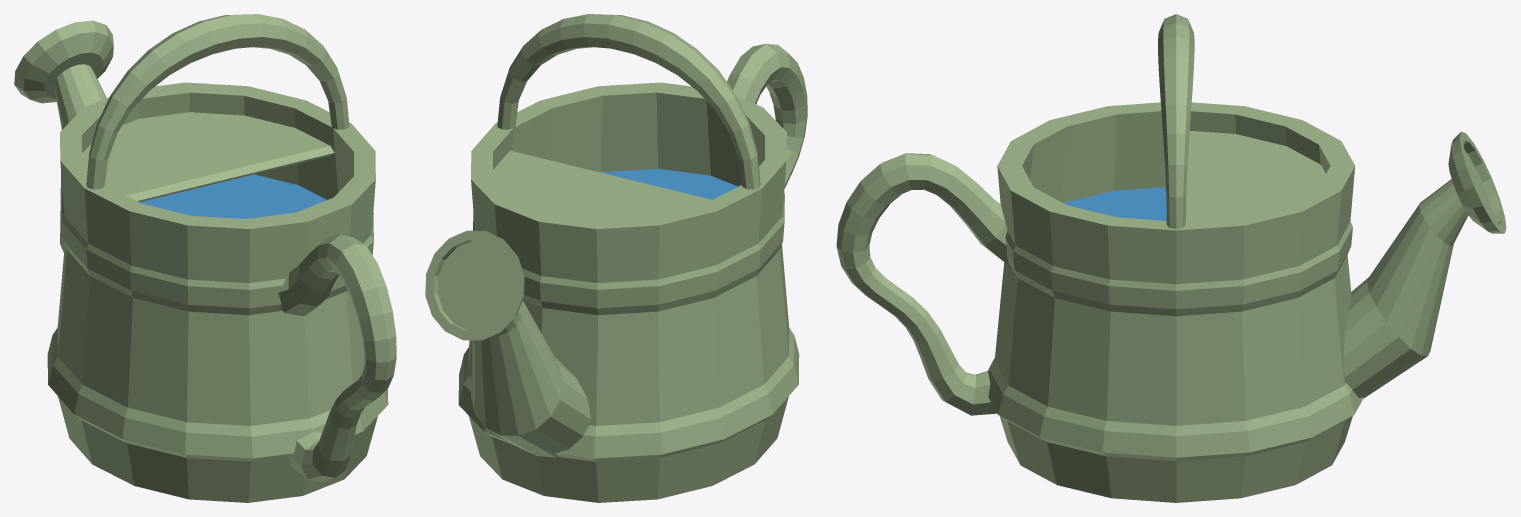
File: wateringCanblend.fbx
The picture shows the model from 3 angles, left to right: view 1: azimuth 30°, elevation 25°; view 2: azimuth 150°, elevation 25°; view 3: azimuth 270°, elevation 25°; orthographic projection.
Parts seen in each view (by area): view 1: Cylinder.007, Cylinder.003, NurbsPath.002, NurbsPath.003, water, Cylinder.005, Cylinder.006; view 2: Cylinder.007, Cylinder.006, NurbsPath.003, Cylinder.005, Cylinder.003, NurbsPath.002, water; view 3: Cylinder.007, NurbsPath.002, Cylinder.006, Cylinder.003, NurbsPath.003, Cylinder.005, water.
Part boxes in pixels (x1,y1,x2,y2): Cylinder.007: (47, 82, 388, 502); Cylinder.003: (82, 112, 334, 202); NurbsPath.002: (278, 235, 396, 482); NurbsPath.003: (86, 14, 349, 189); water: (140, 174, 326, 218); Cylinder.005: (14, 20, 113, 103); Cylinder.006: (54, 64, 106, 252); Cylinder.007: (458, 82, 799, 502); Cylinder.006: (471, 300, 590, 457); NurbsPath.003: (497, 14, 760, 189); Cylinder.005: (425, 230, 524, 340); Cylinder.003: (492, 150, 711, 218); NurbsPath.002: (727, 44, 807, 188); water: (600, 168, 737, 199); Cylinder.007: (988, 102, 1363, 502); NurbsPath.002: (836, 153, 1008, 415); Cylinder.006: (1344, 179, 1468, 398); Cylinder.003: (1185, 130, 1325, 220); NurbsPath.003: (1158, 14, 1194, 229); Cylinder.005: (1448, 131, 1506, 233); water: (1063, 187, 1166, 220).
Bounding box in the file's own units: 216 × 298 × 438.
